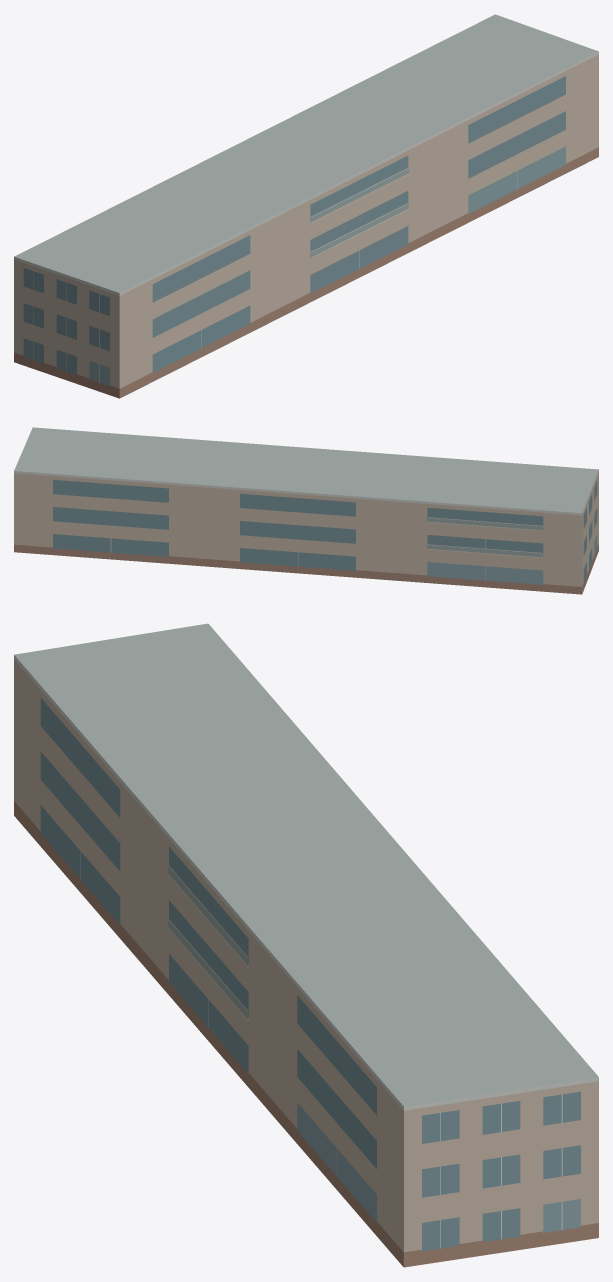
File: survey-upis-32548598.glb
3 renders of one model, top to bottom at view 1: azimuth 30°, elevation 25°; view 2: azimuth 150°, elevation 25°; view 3: azimuth 270°, elevation 25°, orthographic. The views are drawn at different scales.
Parts seen in each view (by area): view 1: survey-upis-32548598.tmp; view 2: survey-upis-32548598.tmp; view 3: survey-upis-32548598.tmp.
Boxes of the visible parts, box(x1,y1,x2,y2) form: survey-upis-32548598.tmp: box(14, 14, 598, 398); survey-upis-32548598.tmp: box(14, 427, 598, 594); survey-upis-32548598.tmp: box(14, 623, 598, 1267).
Size of the model in its own units: 58.89 by 9.15 by 30.14.
